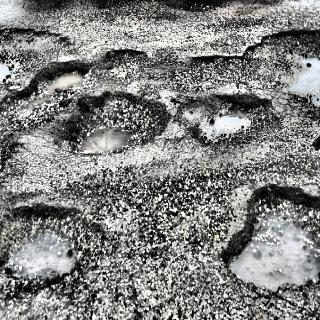pothole: (10, 56, 166, 165), (224, 160, 320, 304), (2, 198, 92, 305), (190, 88, 272, 152), (281, 39, 320, 114)
